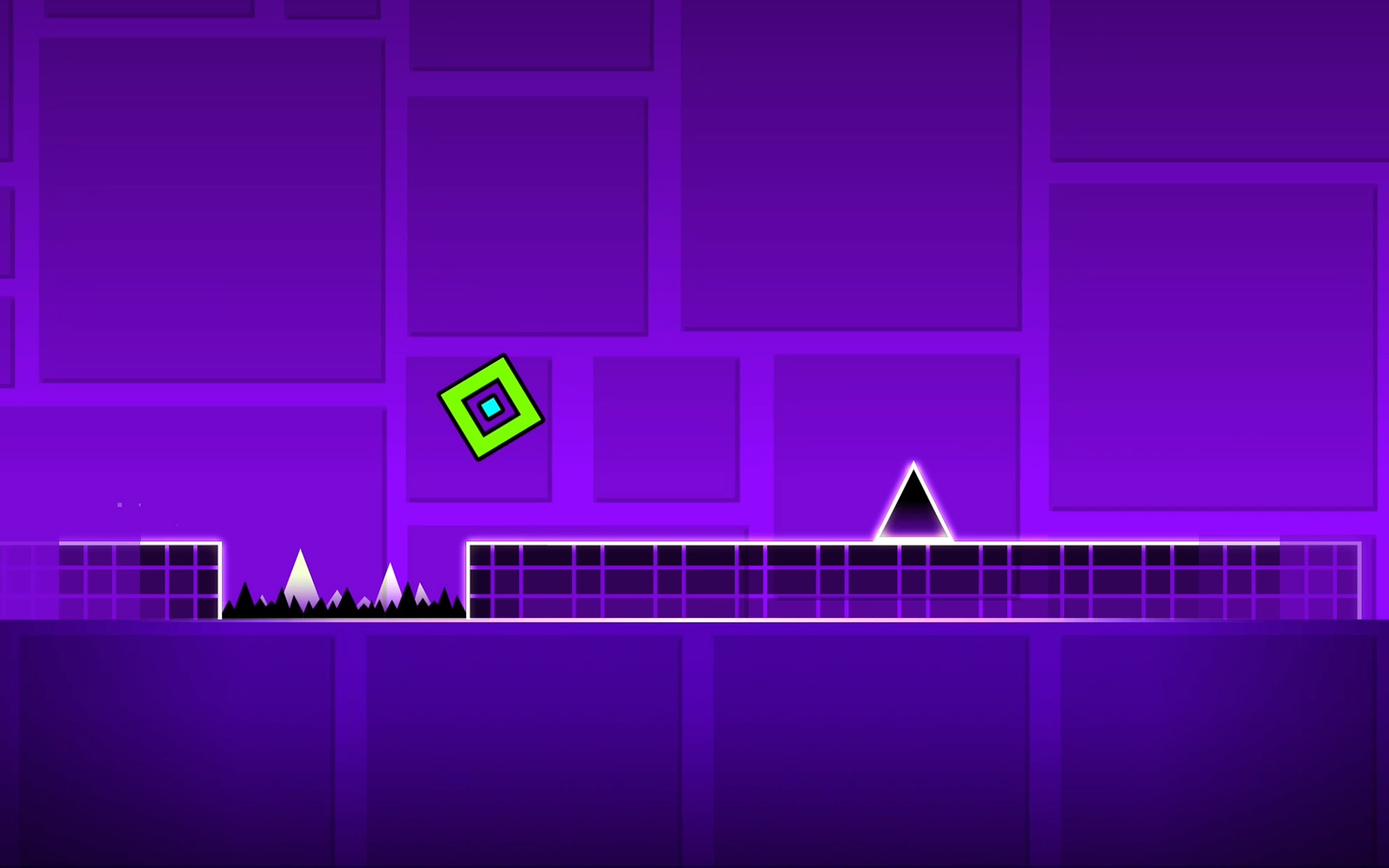Block2: (463, 540, 1366, 616), (1, 542, 220, 619)
Player: (437, 354, 545, 458)
Spike: (875, 462, 951, 538)
Spike3: (222, 581, 465, 622)
